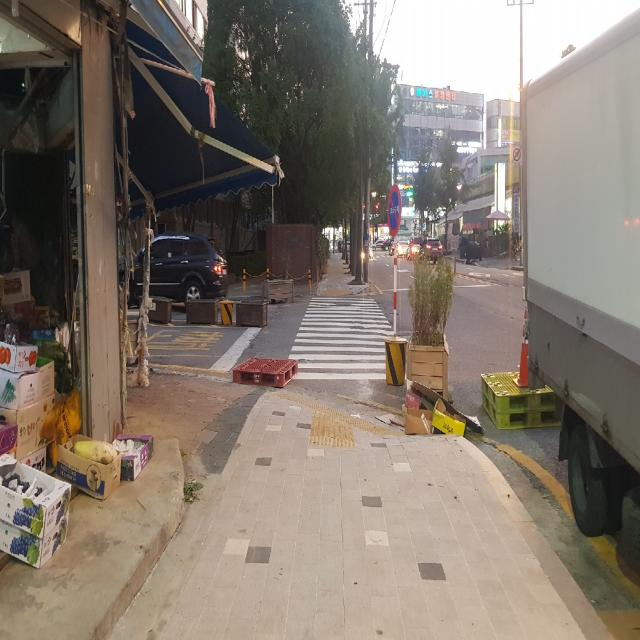횡단보도: (288, 297, 406, 380)
